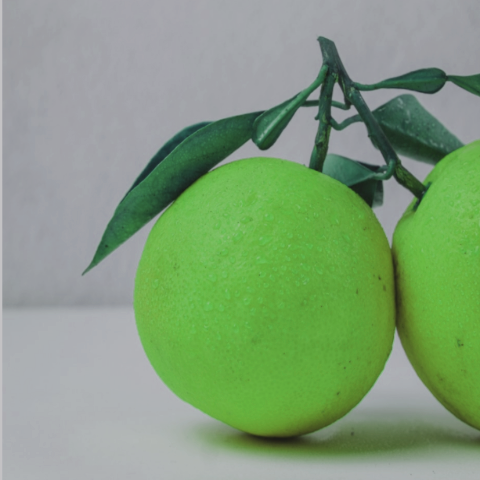orange: (108, 126, 424, 456)
